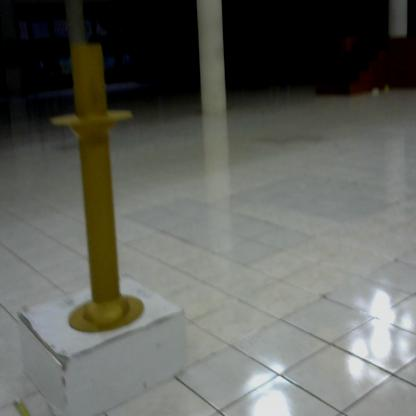pole: (48, 36, 154, 344)
